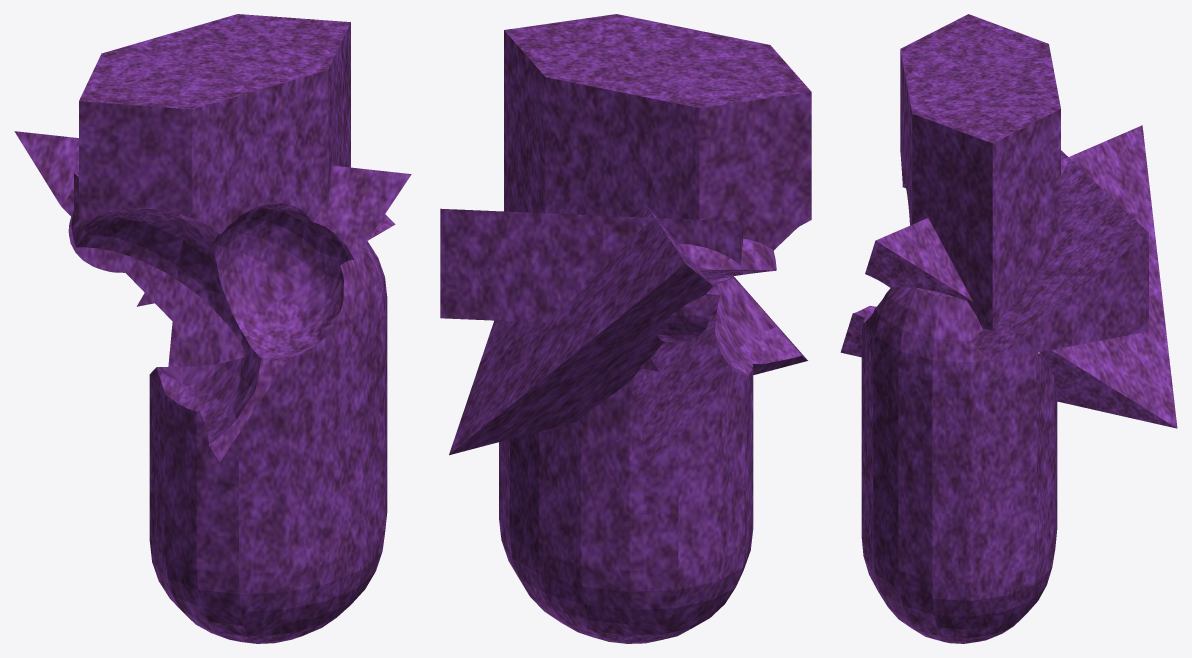
3 views of the same model, side by side, from view 1: azimuth 30°, elevation 25°; view 2: azimuth 150°, elevation 25°; view 3: azimuth 270°, elevation 25° (orthographic). The views are drawn at different scales.
Parts seen in each view (by area): view 1: geometry_0; view 2: geometry_0; view 3: geometry_0.
Part boxes in pixels (box(x1,y1,x2,y2)): geometry_0: box(14, 14, 411, 643); geometry_0: box(440, 14, 811, 643); geometry_0: box(840, 14, 1177, 643).
Bounding box in the file's own units: 1.49 × 2.48 × 1.42.
Materials: 1 (1 with a texture image).
